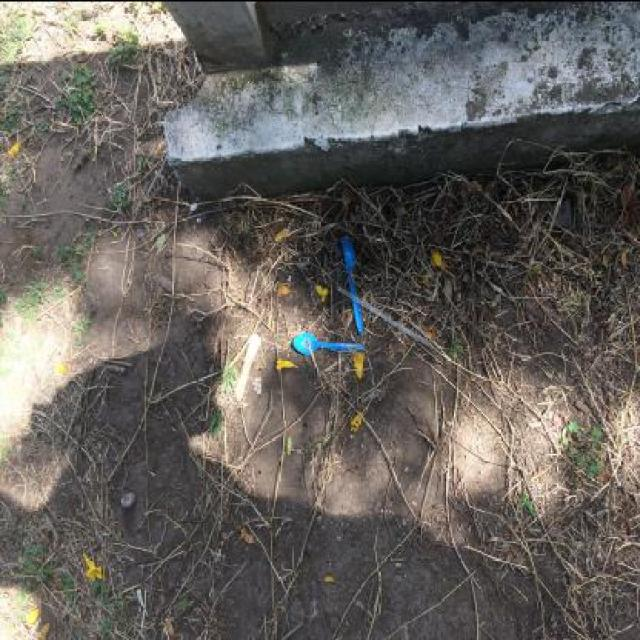plastic: (337, 285, 432, 346), (340, 236, 363, 335), (292, 332, 366, 354)
